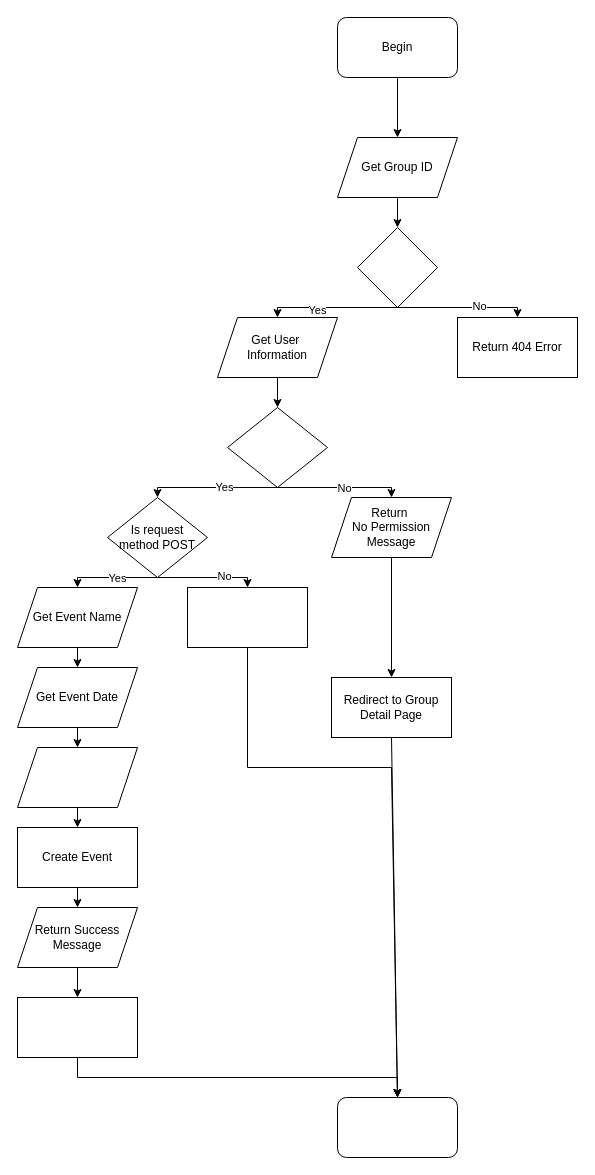
Some shapes in this 595 by 1175 pixel diagram are drawn without their labels. Here are the shapes that lost their labels. From the top down, the box of each, then its label:
(356, 226, 438, 308): Group ID Exists
(226, 406, 328, 488): Is User the Group Admin
(186, 586, 308, 648): Redirect To Create Event Page
(16, 746, 138, 808): Get Event Total Spend
(16, 996, 138, 1058): Redirect to Grouo Detail Page
(336, 1096, 458, 1158): End
